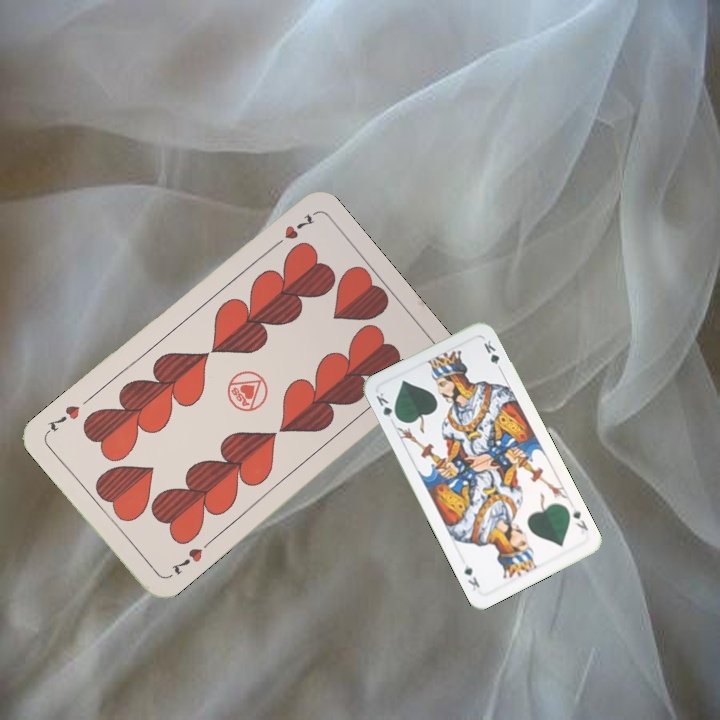GK: (372, 388, 401, 423), (568, 504, 591, 533)
H7: (267, 209, 318, 252), (166, 544, 205, 578)
